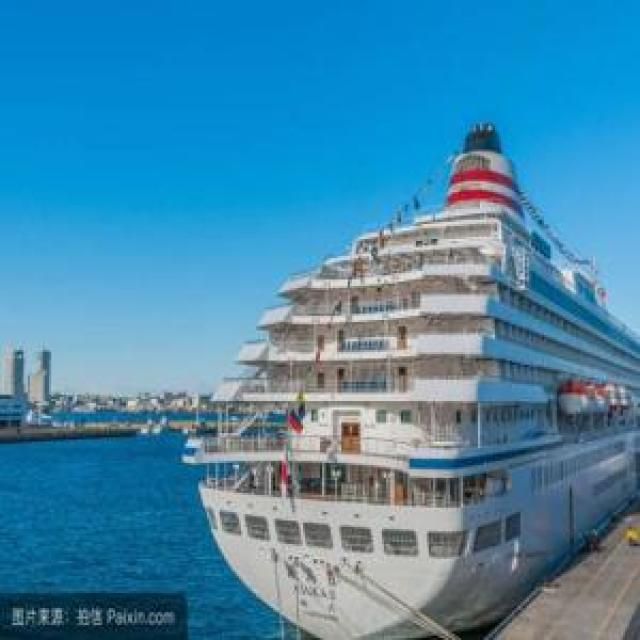passenger ship: (189, 121, 640, 634)
